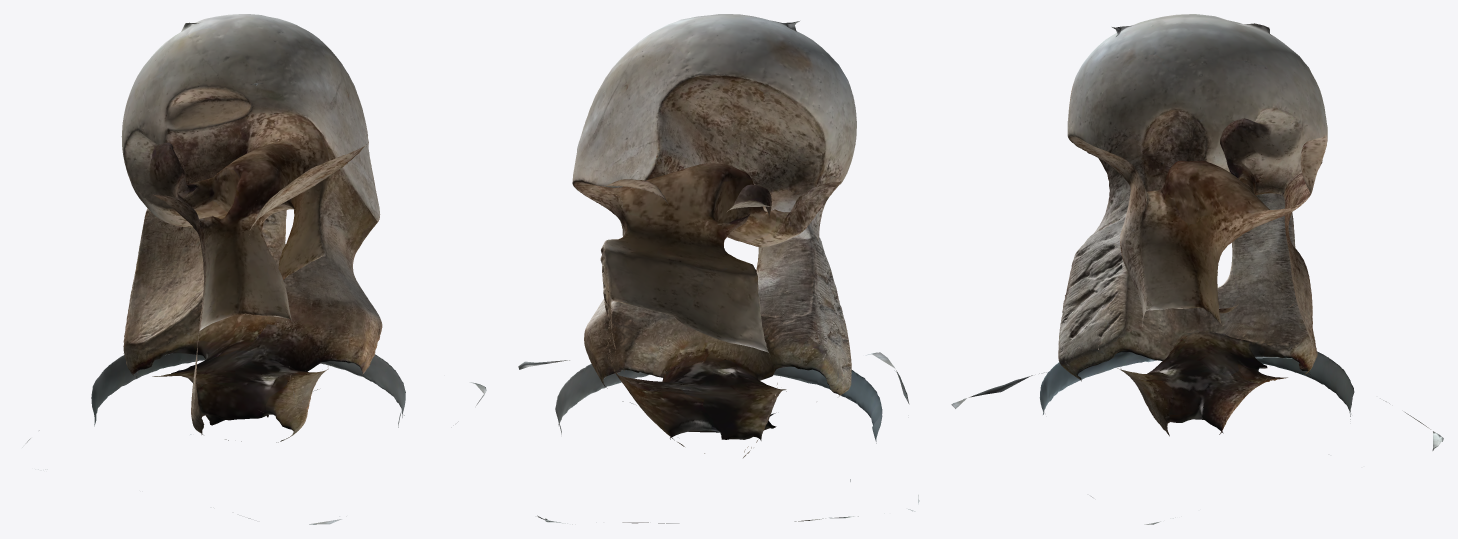
File: preview.glb
3 renders of one model, left to right at view 1: azimuth 30°, elevation 25°; view 2: azimuth 150°, elevation 25°; view 3: azimuth 270°, elevation 25°, orthographic. The views are drawn at different scales.
Parts seen in each view (by area): view 1: Object_4; view 2: Object_4; view 3: Object_4.
Boxes of the visible parts, x1,y1,x2,y2 form: Object_4: (21,14,486,524); Object_4: (518,14,919,524); Object_4: (951,14,1443,524).
Bounding box in the file's own units: 1.5 × 1.33 × 1.49.
Materials: 1 (1 with a texture image).
